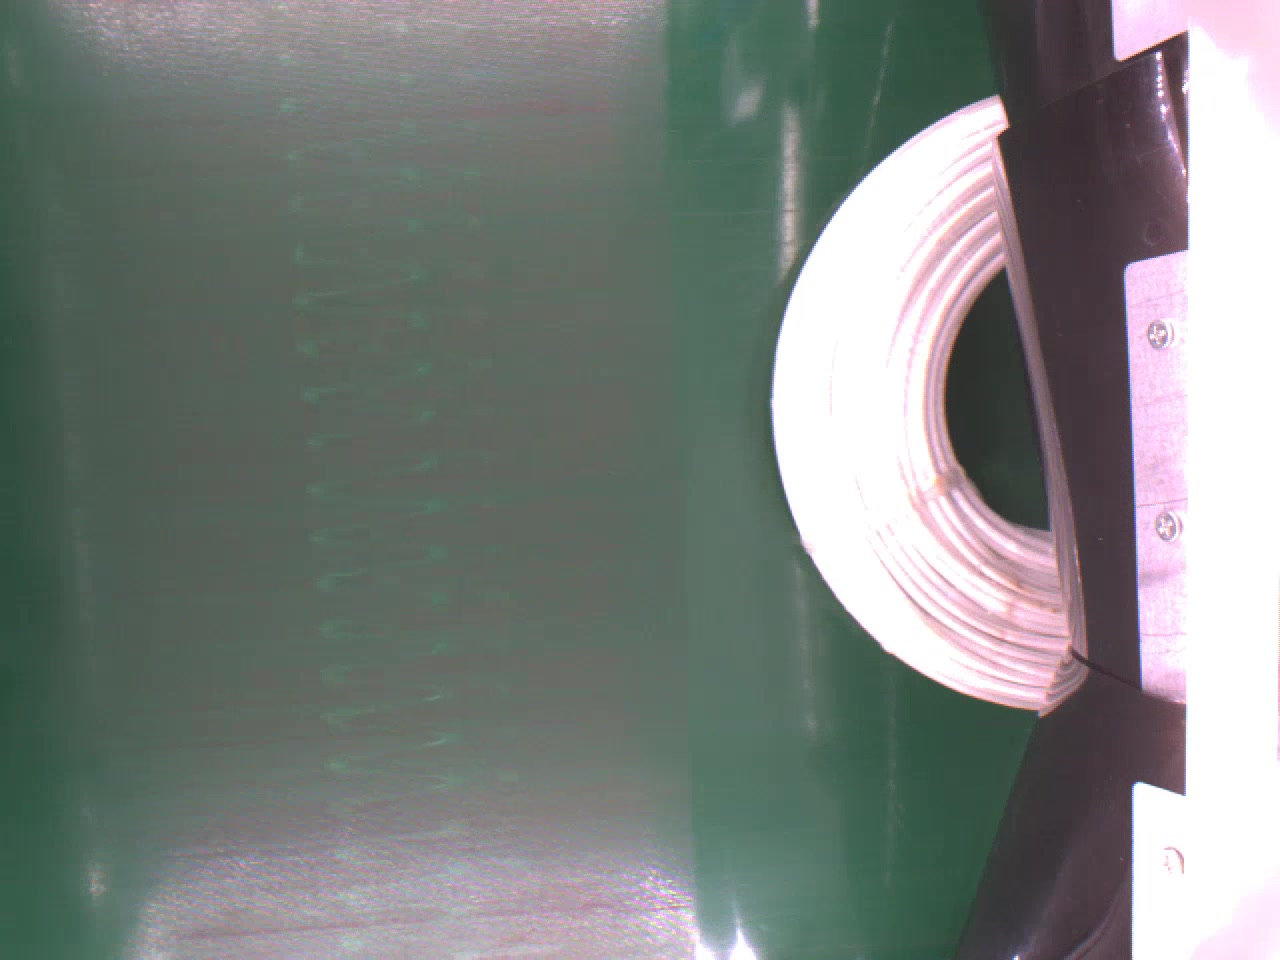white: (769, 93, 1067, 708)
